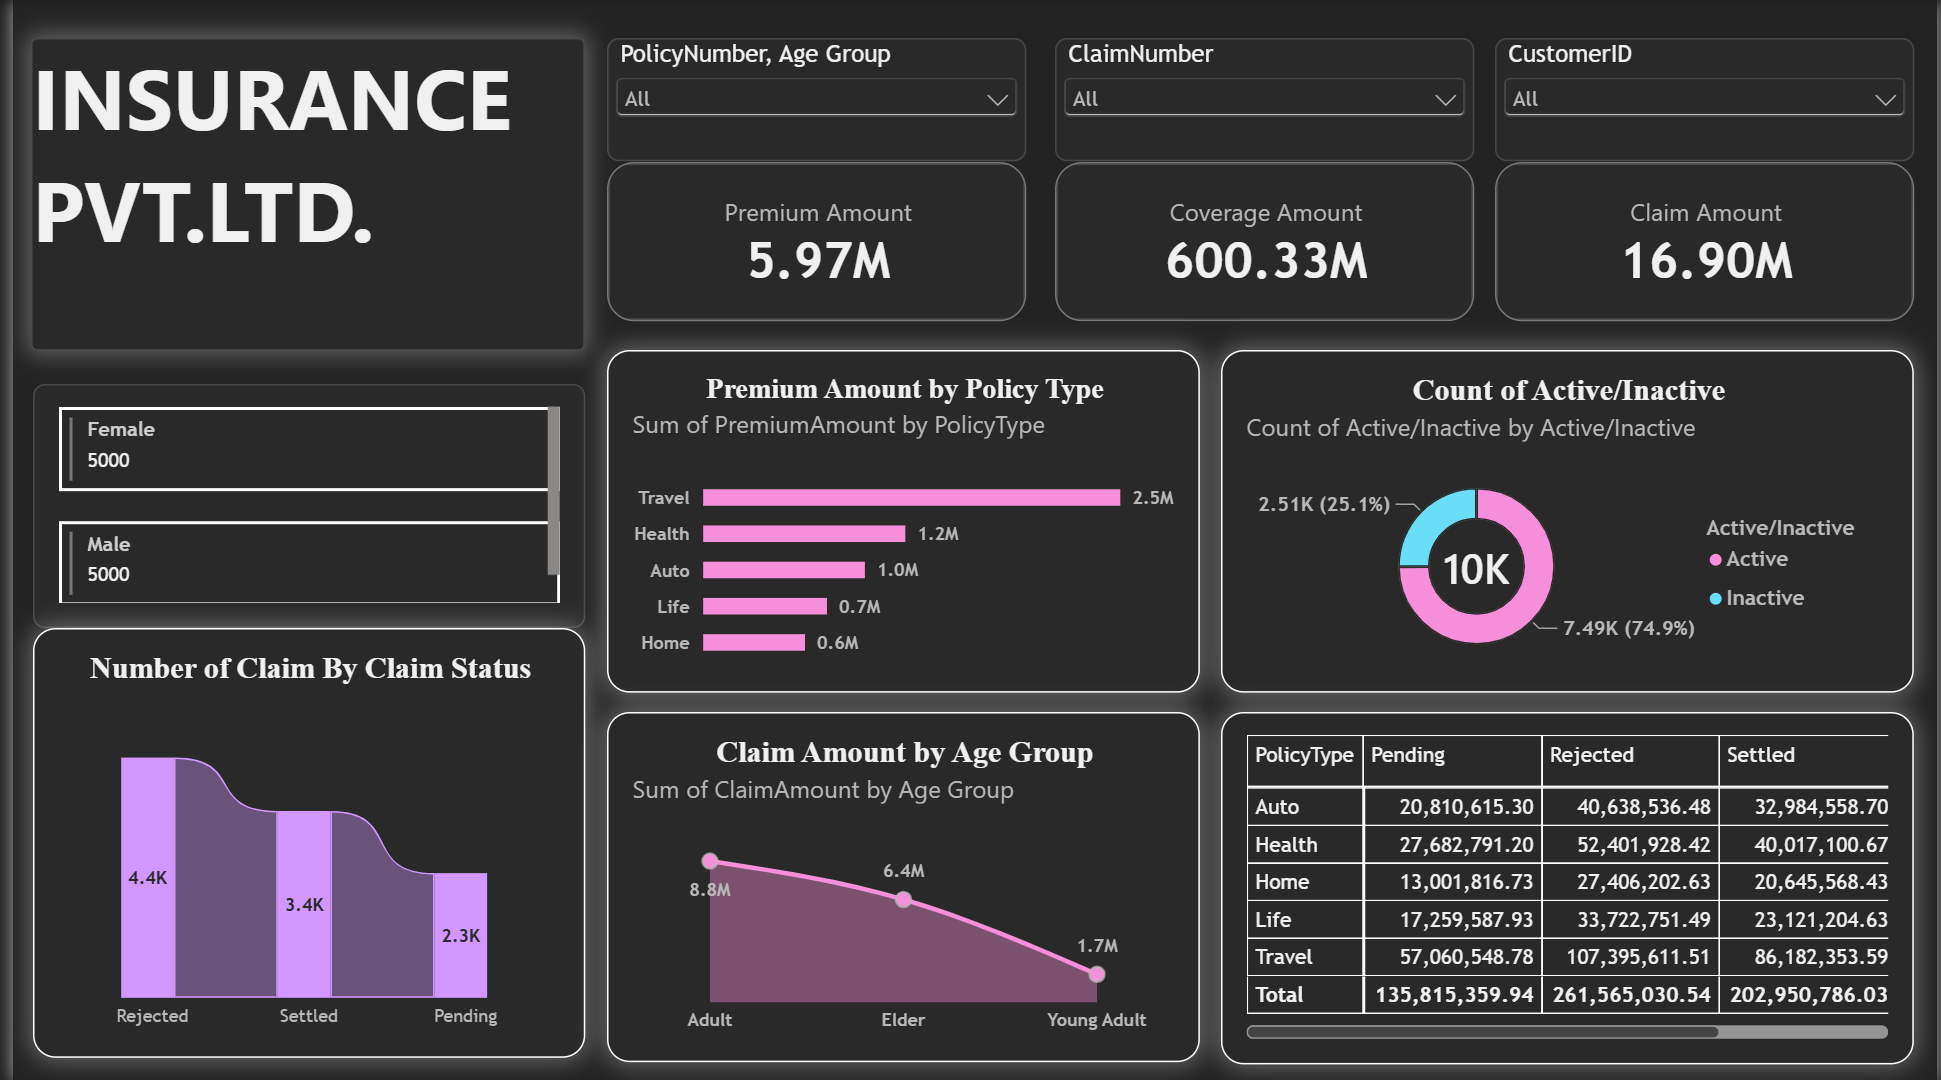

This screenshot's page, from the dashboard's own definition file:
{"tool":"powerbi","page":{"name":"Page 1","canvas":[1280,720],"ordinal":0},"visuals":[{"type":"slicer","fields":{"Values":["InsuranceData.PolicyNumber","InsuranceData.Age Group"]},"box":[395.8,25.8,279.1,81.9],"z":0},{"type":"slicer","fields":{"Values":["InsuranceData.ClaimNumber"]},"box":[693.1,25.8,279.1,81.9],"z":1000},{"type":"slicer","fields":{"Values":["InsuranceData.CustomerID"]},"box":[985.8,25.8,279.1,81.9],"z":2000},{"type":"textbox","box":[12.1,25.8,368.5,207.8],"z":3000},{"type":"cardVisual","fields":{"Data":["Sum(InsuranceData.PremiumAmount)"]},"box":[395.8,107.7,279.1,106.2],"z":4000},{"type":"cardVisual","fields":{"Data":["Sum(InsuranceData.CoverageAmount)"]},"box":[693.1,107.7,279.1,106.2],"z":5000},{"type":"cardVisual","fields":{"Data":["Sum(InsuranceData.ClaimAmount)"]},"box":[985.8,107.7,279.1,106.2],"z":6000},{"type":"multiRowCard","fields":{"Values":["InsuranceData.Gender","CountNonNull(InsuranceData.Gender)"]},"box":[13.6,254.9,367.5,162.7],"z":7000},{"type":"ribbonChart","title":"Number of Claim By Claim Status","fields":{"Category":["InsuranceData.ClaimStatus"],"Y":["CountNonNull(InsuranceData.ClaimStatus)"]},"box":[13.6,417.6,367.5,286.1],"z":8000},{"type":"barChart","title":"Premium Amount by Policy Type","fields":{"Category":["InsuranceData.PolicyType"],"Y":["Sum(InsuranceData.PremiumAmount)"]},"box":[395.9,233.2,394.6,227.8],"z":9000},{"type":"lineChart","title":"Claim Amount by Age Group","fields":{"Category":["InsuranceData.Age Group"],"Y":["Sum(InsuranceData.ClaimAmount)"]},"box":[395.9,473.2,394.6,233.2],"z":10000},{"type":"donutChart","title":"Count of Active/Inactive","fields":{"Category":["InsuranceData.Active/Inactive"],"Y":["CountNonNull(InsuranceData.Active/Inactive)"]},"box":[804.1,233.2,461,227.8],"z":11000},{"type":"pivotTable","fields":{"Columns":["InsuranceData.ClaimStatus"],"Rows":["InsuranceData.PolicyType"],"Values":["Sum(InsuranceData.CoverageAmount)"]},"box":[804.1,473.2,461,234.6],"z":12000}]}

Visuals, with their boxes in screenshot pixels (x1, y1, x2, y2), scaled from the page's 1280x720 canvas onto the 1941x1080 screenshot:
slicer - InsuranceData.PolicyNumber x InsuranceData.Age Group: 600 39 1023 162
slicer - InsuranceData.ClaimNumber: 1051 39 1474 162
slicer - InsuranceData.CustomerID: 1495 39 1918 162
textbox: 18 39 577 350
cardVisual - Sum(InsuranceData.PremiumAmount): 600 162 1023 321
cardVisual - Sum(InsuranceData.CoverageAmount): 1051 162 1474 321
cardVisual - Sum(InsuranceData.ClaimAmount): 1495 162 1918 321
multiRowCard - InsuranceData.Gender x CountNonNull(InsuranceData.Gender): 21 382 578 626
"Number of Claim By Claim Status" ribbonChart: 21 626 578 1056
"Premium Amount by Policy Type" barChart: 600 350 1199 692
"Claim Amount by Age Group" lineChart: 600 710 1199 1060
"Count of Active/Inactive" donutChart: 1219 350 1918 692
pivotTable - InsuranceData.ClaimStatus x InsuranceData.PolicyType: 1219 710 1918 1062
